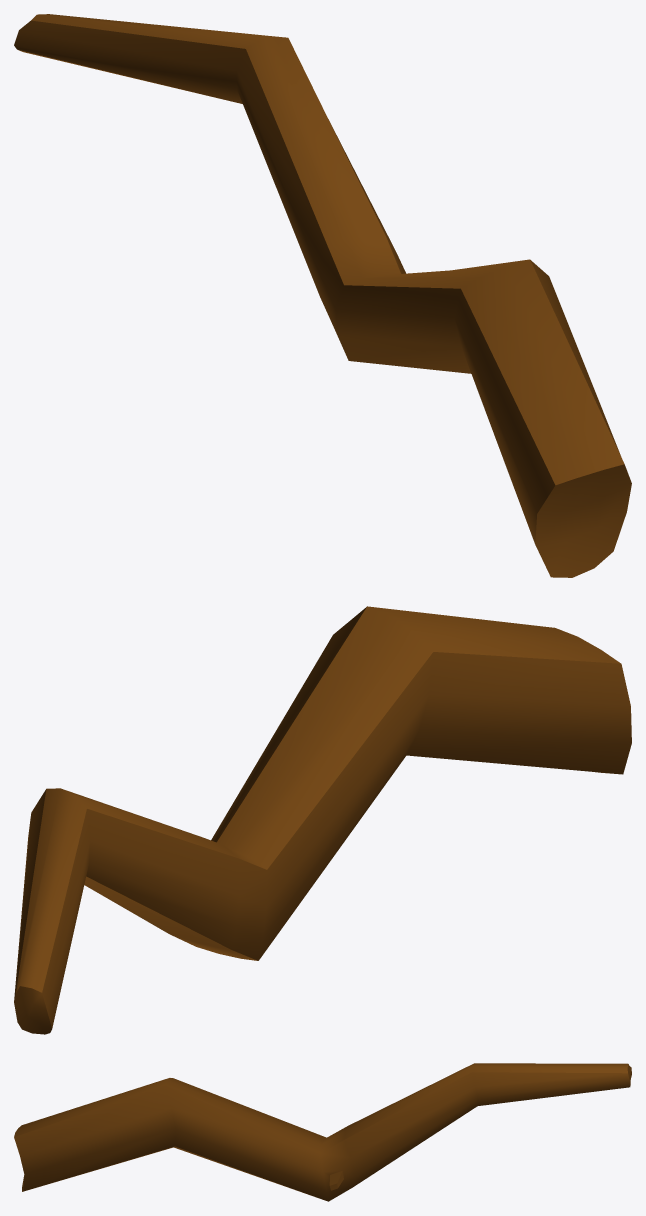
The model's file is Sem4_Environment_Ast02_JT.fbx.
3 renders of one model, top to bottom at view 1: azimuth 30°, elevation 25°; view 2: azimuth 150°, elevation 25°; view 3: azimuth 270°, elevation 25°, orthographic. The views are drawn at different scales.
Parts seen in each view (by area): view 1: Ast2_f; view 2: Ast2_f; view 3: Ast2_f.
Boxes of the visible parts, x1,y1,x2,y2 form: Ast2_f: [14, 14, 631, 577]; Ast2_f: [14, 606, 631, 1034]; Ast2_f: [14, 1063, 631, 1201].
Size of the model in its own units: 10.67 by 13.21 by 50.93.
